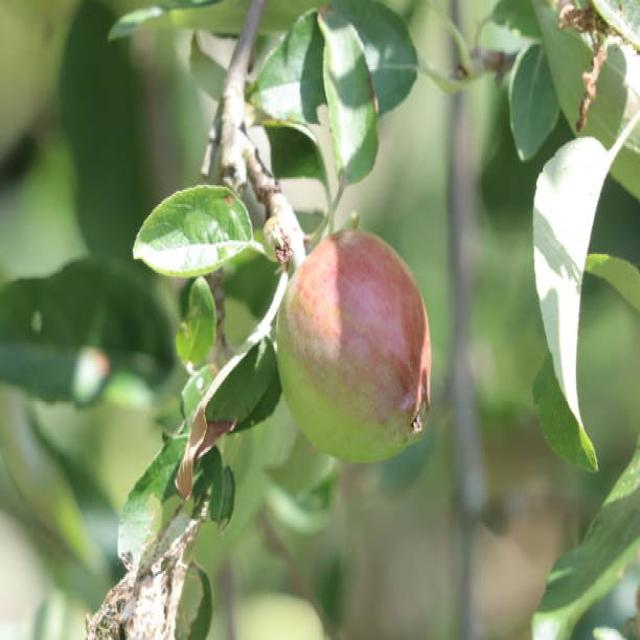Unripe: (278, 228, 432, 464)
